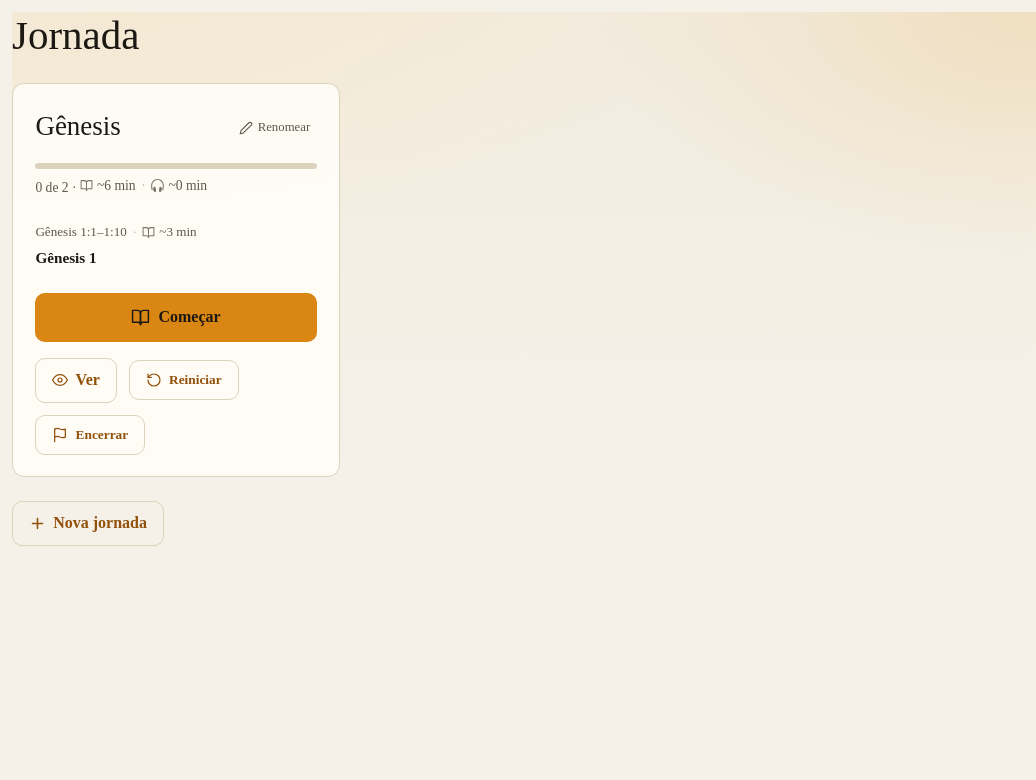
Jornada — logado, com jornada corrente › Cancelar na confirmação de Reiniciar/Encerrar não grava nada
This screenshot has width=1036, height=780.
Click the button "Encerrar" at [90, 435], box [35,415,145,455]
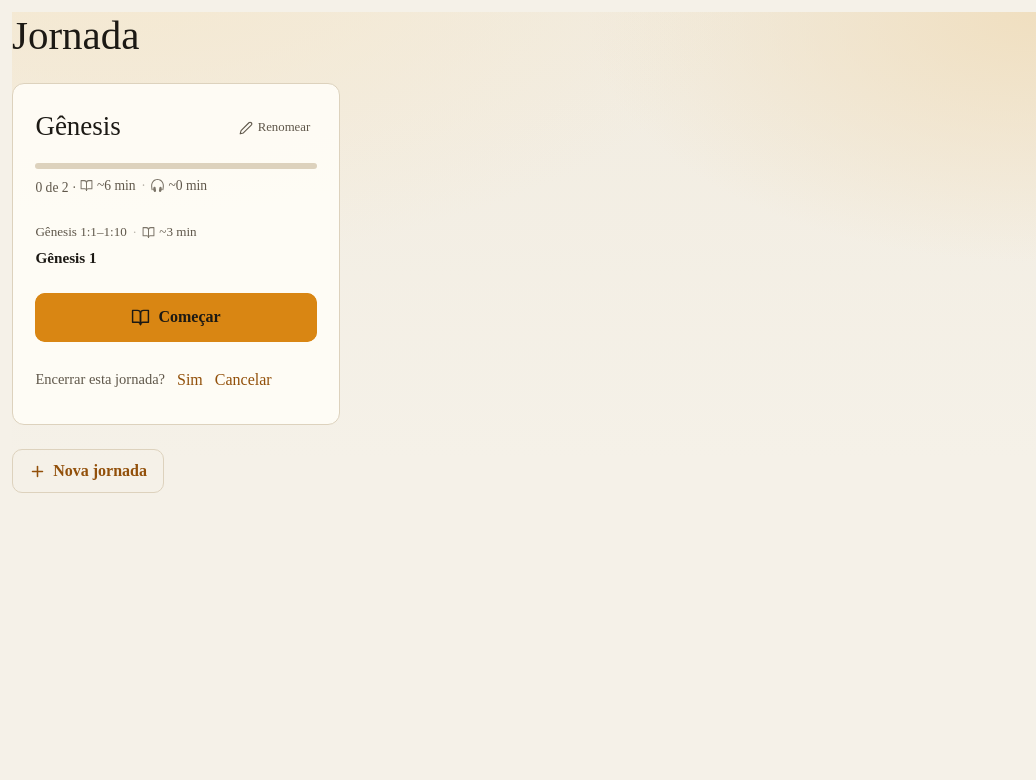
Click the button "Cancelar" at [243, 380], box [215,358,272,402]
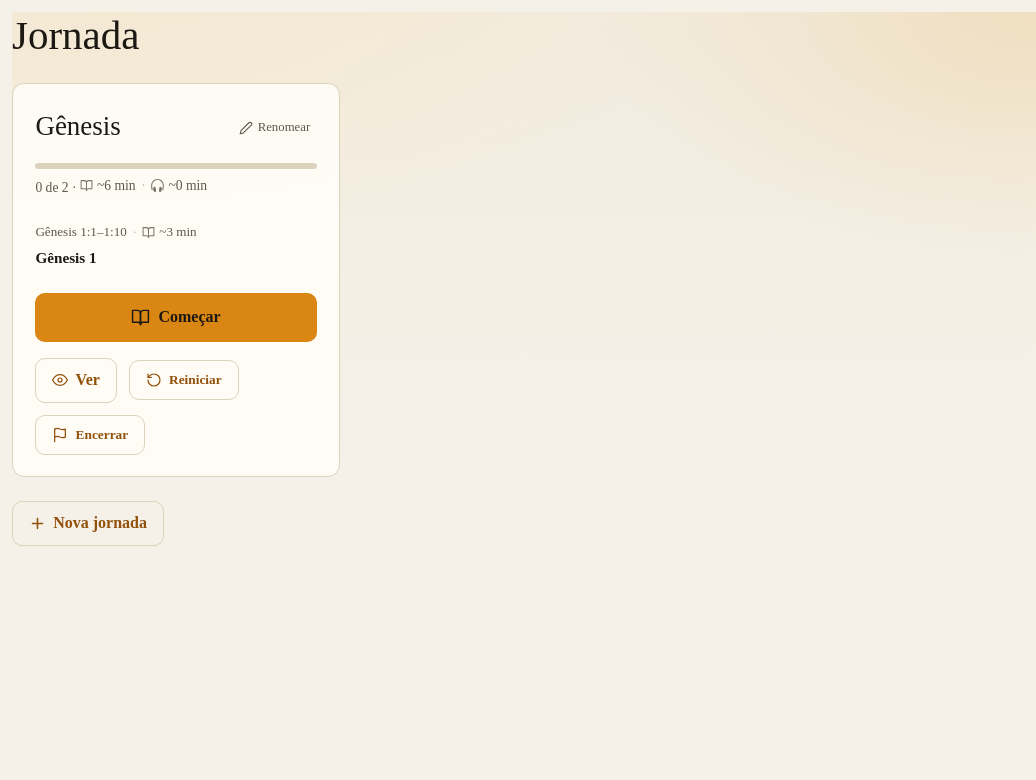
Check: the text "Encerrar esta jornada?" is gone
